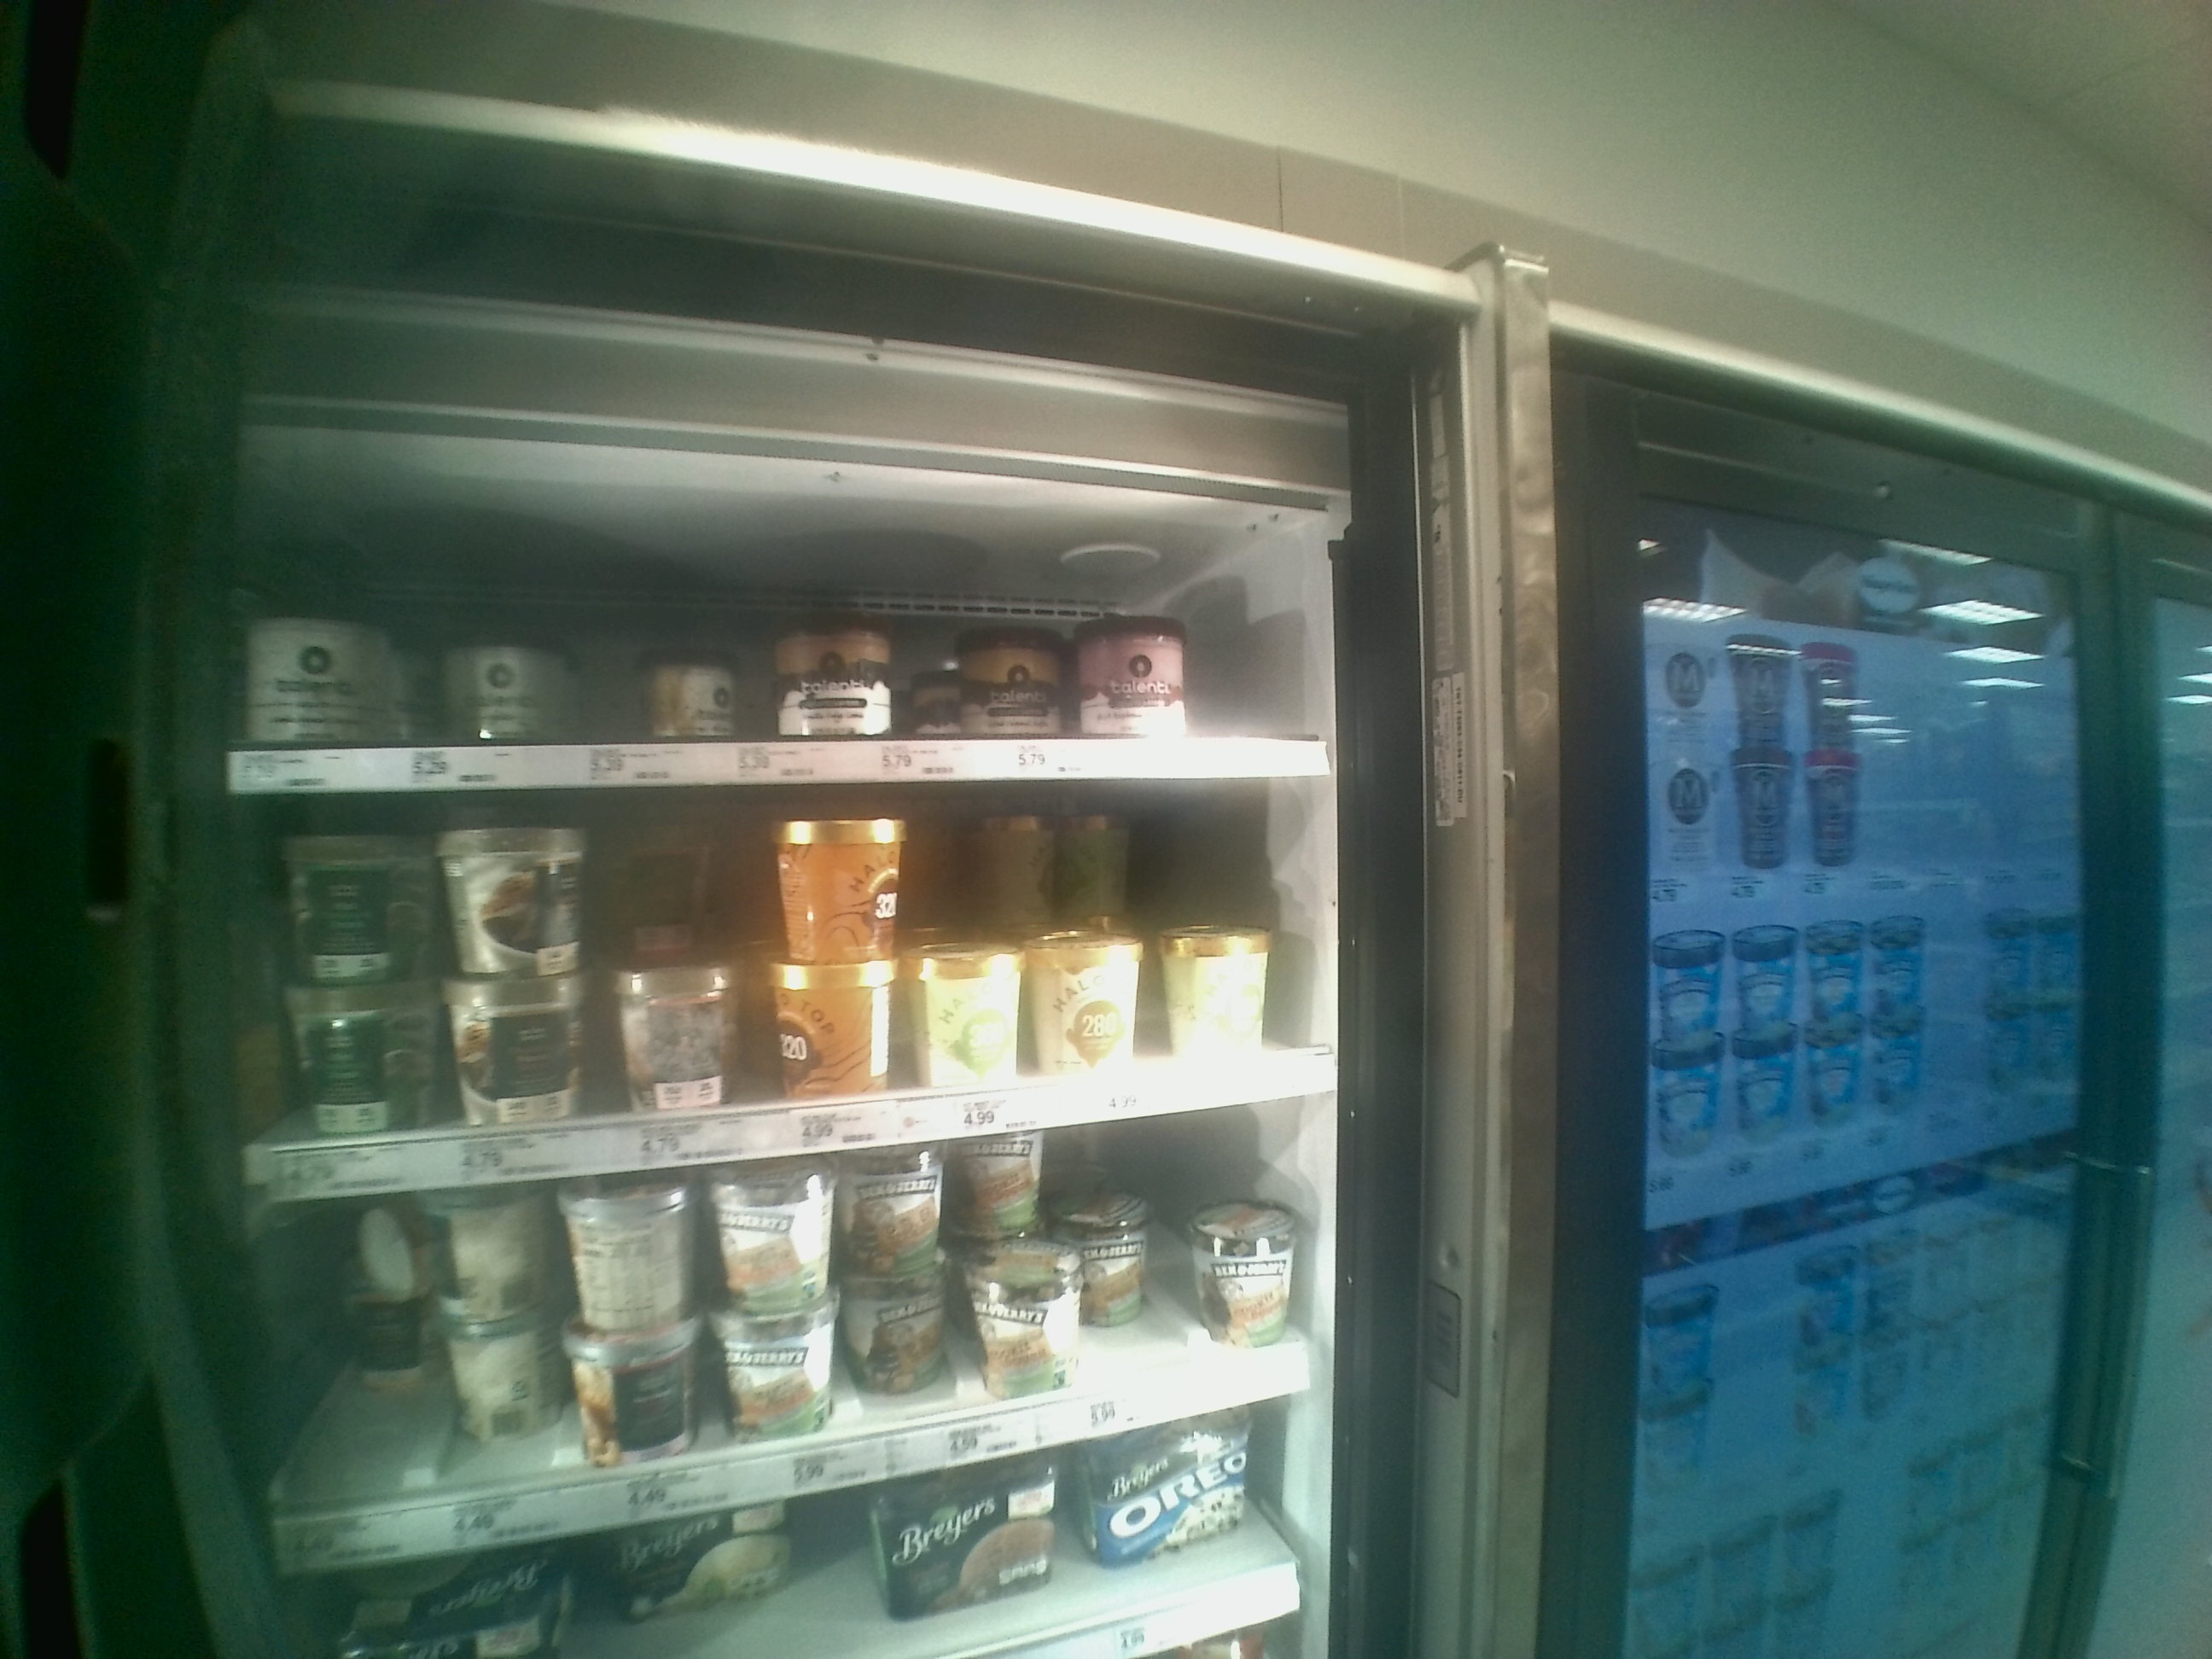shelf: (256, 1082, 1331, 1577), (218, 791, 1334, 1213), (221, 455, 1338, 791)
